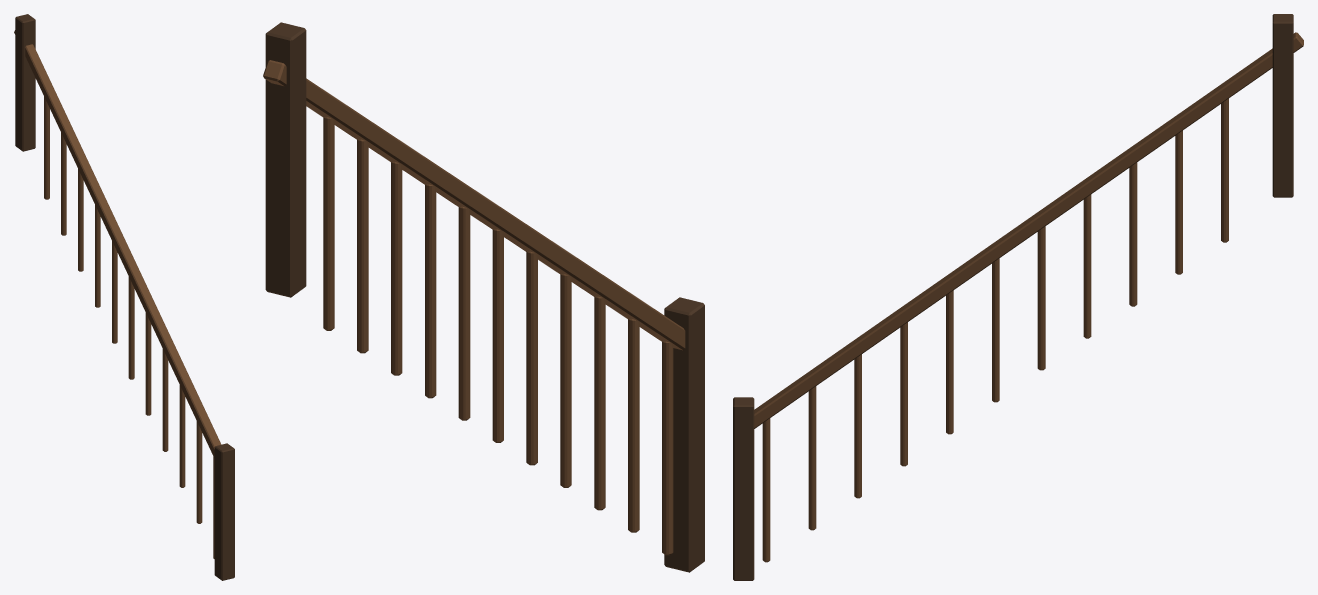
Rendered from mdvl_village_stair_rail_01.glb.
The picture shows the model from 3 angles, left to right: view 1: azimuth 30°, elevation 25°; view 2: azimuth 150°, elevation 25°; view 3: azimuth 270°, elevation 25°; orthographic projection. The views are drawn at different scales.
Parts seen in each view (by area): view 1: mdvl_village_stair_rail_01; view 2: mdvl_village_stair_rail_01; view 3: mdvl_village_stair_rail_01.
Part boxes in pixels (x1,y1,x2,y2): mdvl_village_stair_rail_01: (14, 14, 234, 580); mdvl_village_stair_rail_01: (263, 22, 704, 572); mdvl_village_stair_rail_01: (733, 14, 1303, 580).
Size of the model in its own units: 0.12 by 3.5 by 3.24.
1 material, 1 textured.
